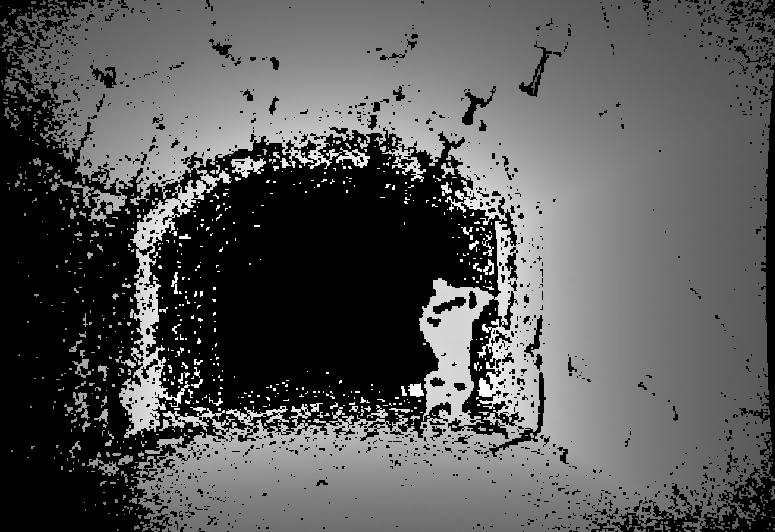person: (419, 277, 498, 418)
